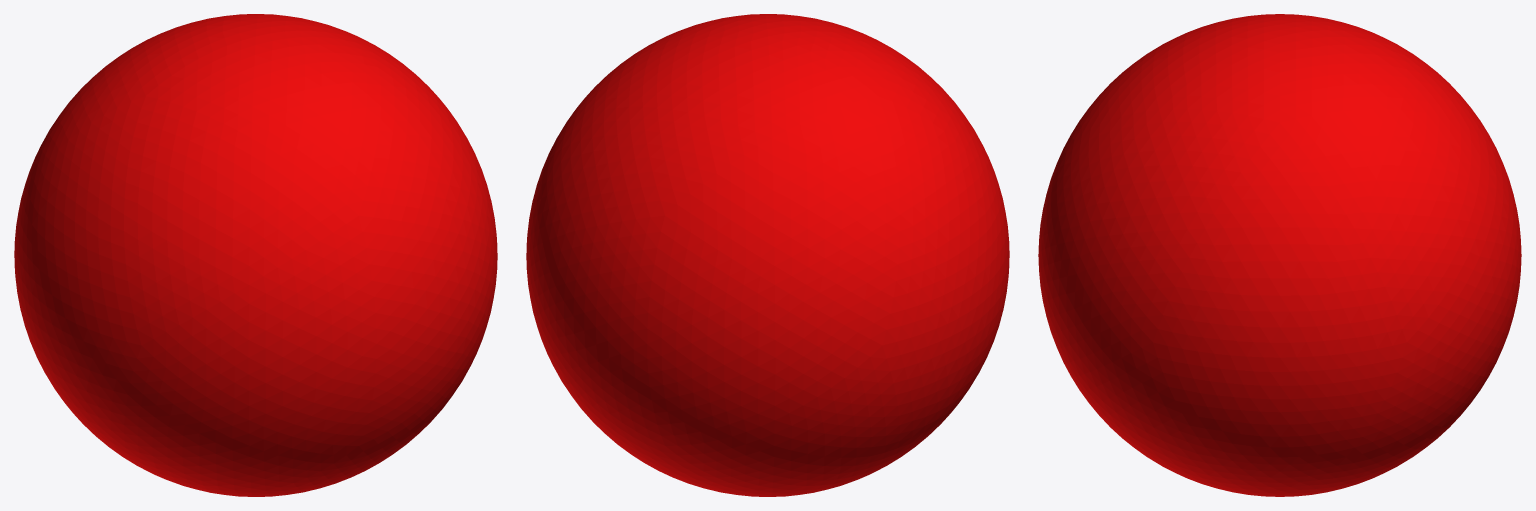
The model's file is ball_red.obj.
3 views of the same model, side by side, from view 1: azimuth 30°, elevation 25°; view 2: azimuth 150°, elevation 25°; view 3: azimuth 270°, elevation 25° (orthographic).
Visible parts, largest first — view 1: ball_red; view 2: ball_red; view 3: ball_red.
Boxes of the visible parts, box(x1,y1,x2,y2) form: ball_red: box(14, 14, 497, 496); ball_red: box(526, 14, 1009, 496); ball_red: box(1038, 14, 1521, 496).
Size of the model in its own units: 0.03 by 0.03 by 0.03.
